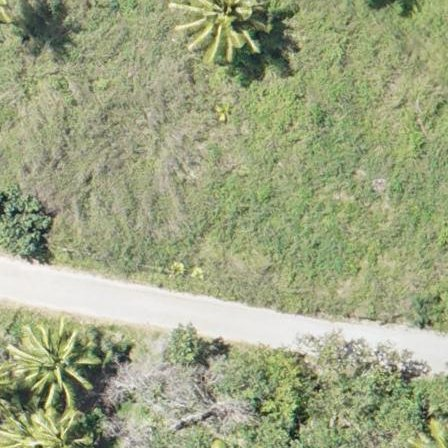palm_tree: (5, 314, 101, 417), (178, 1, 263, 53), (194, 437, 251, 448), (328, 446, 352, 448), (1, 447, 2, 448)
